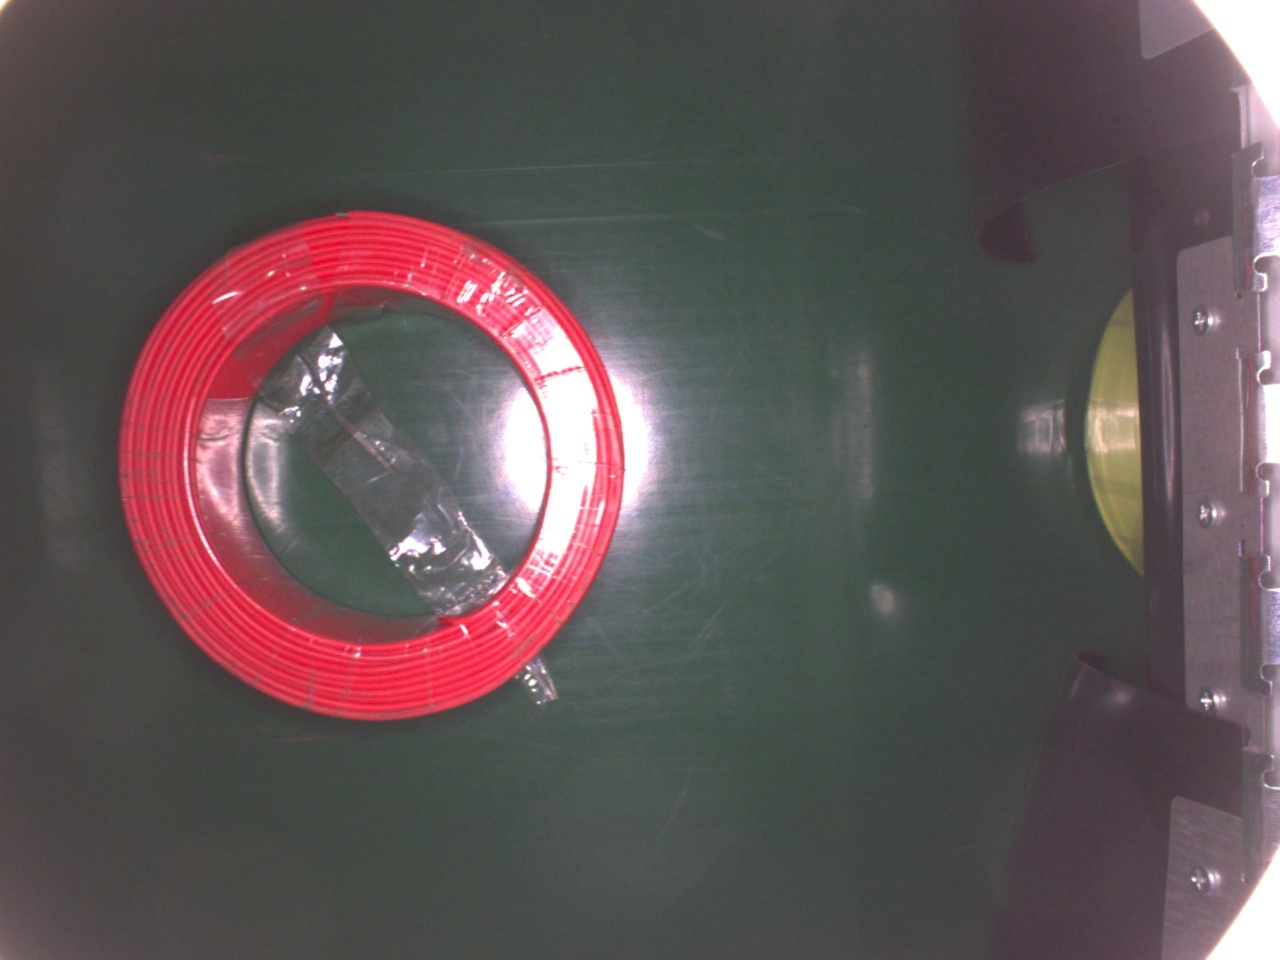red: (117, 208, 628, 720)
